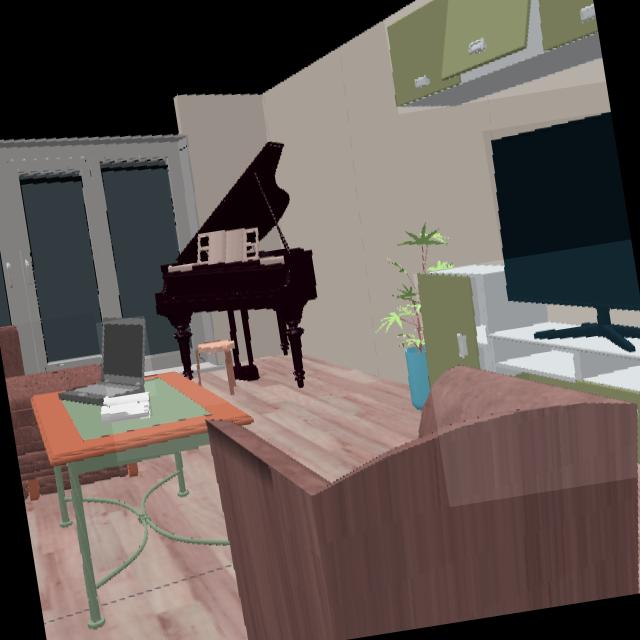book: (101, 392, 151, 423)
cabinet: (417, 265, 640, 446), (387, 0, 603, 108)
laptop: (76, 320, 146, 405)
monitor: (491, 111, 640, 325)
sofa: (207, 367, 640, 640), (0, 327, 101, 493)
table: (32, 376, 250, 465)
